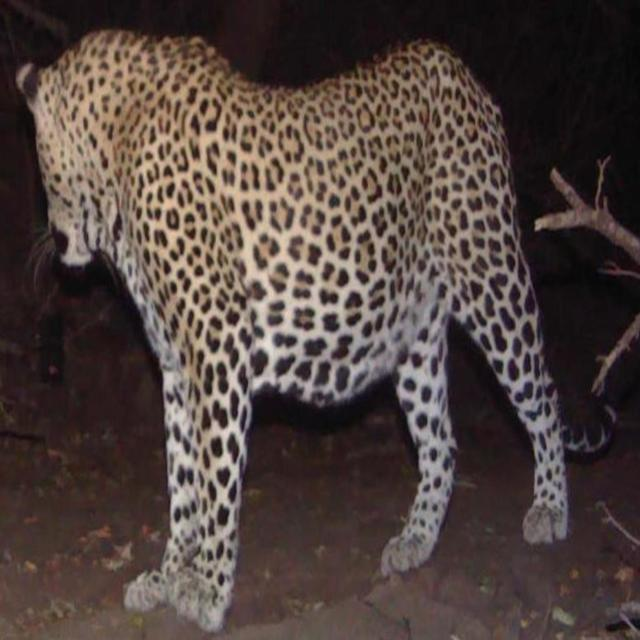Leopard: (9, 18, 600, 599)
